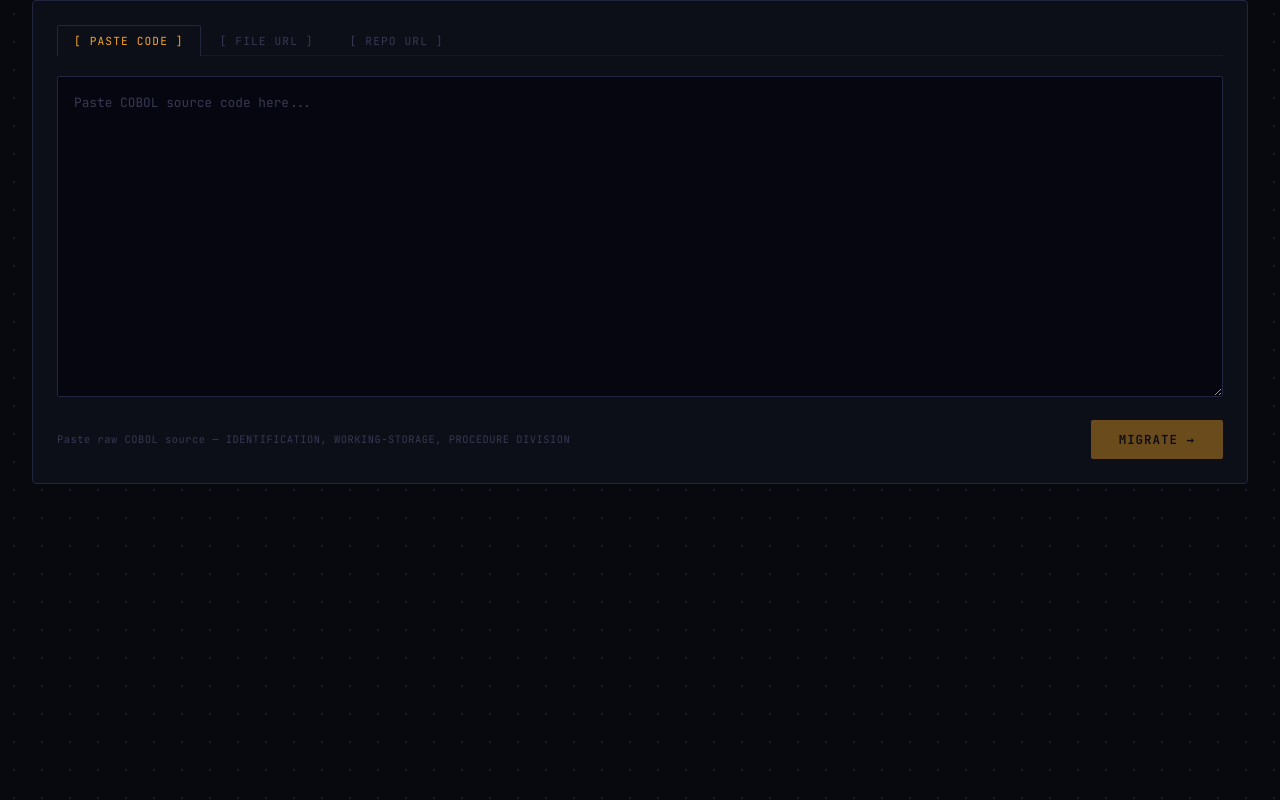
Test case: InputPanel › submit button enabled after typing code
In the text box with placeholder "Paste COBOL source code here...": (640, 236) [57,76,1223,397], type "IDENTIFICATION DIVISION."
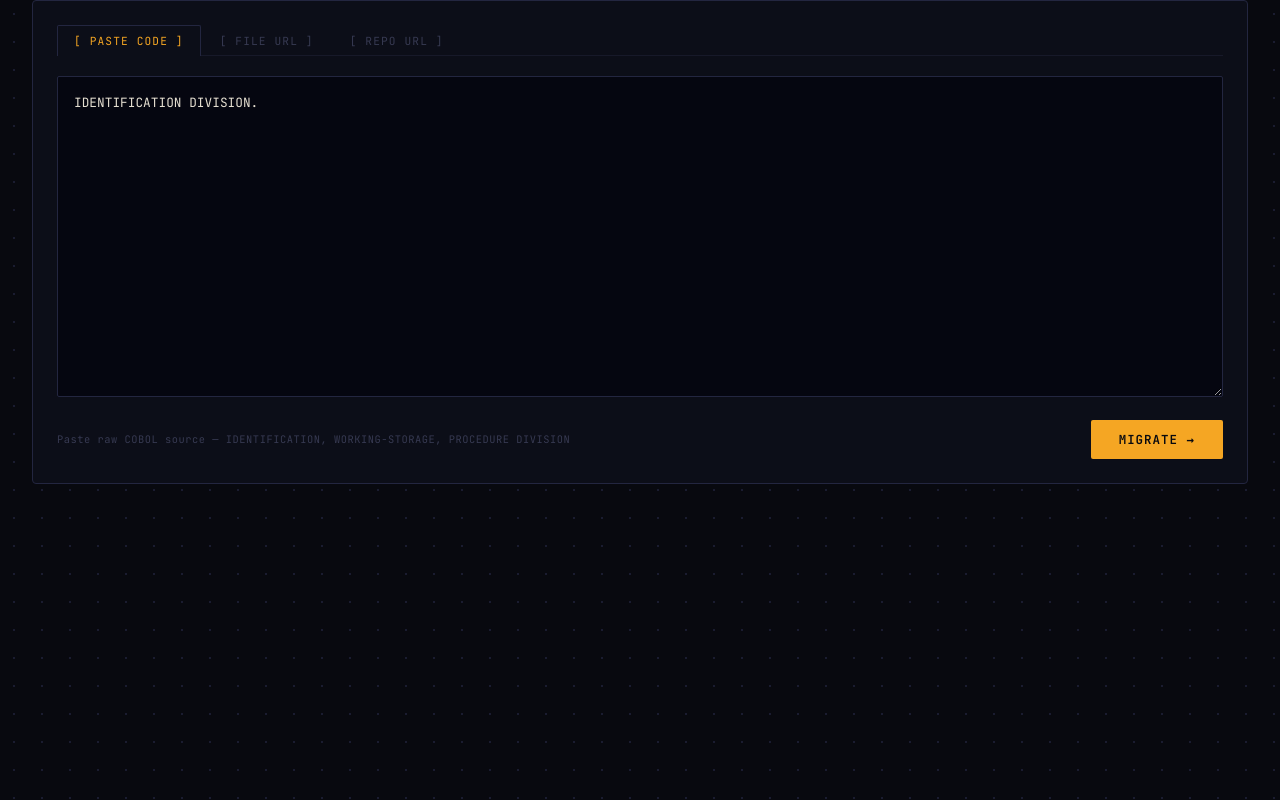
Expected: the button "MIGRATE →" is enabled, [1091,420,1223,459]
